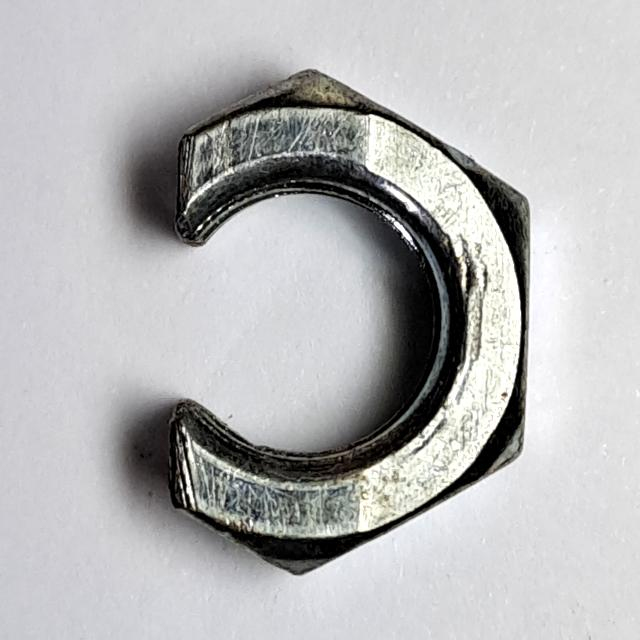Fracture: (154, 57, 549, 587)
